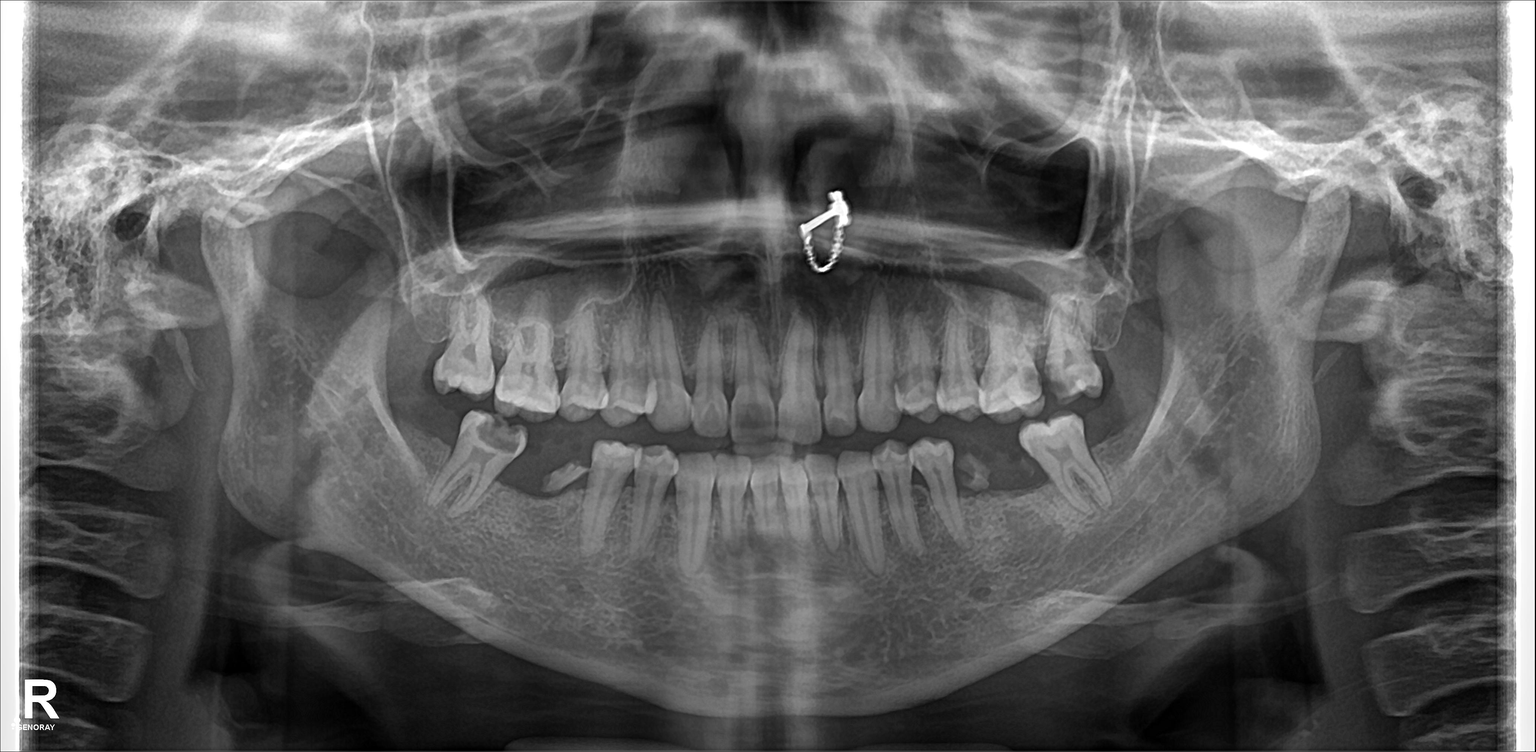Dental Caries: (732, 400, 775, 439), (1034, 339, 1059, 393), (477, 419, 523, 447)
Missing Tooth: (1086, 404, 1156, 481), (395, 400, 448, 492), (393, 285, 441, 374), (1095, 292, 1149, 371), (993, 428, 1032, 521)
Retained Root: (542, 443, 585, 512), (959, 432, 989, 520)
